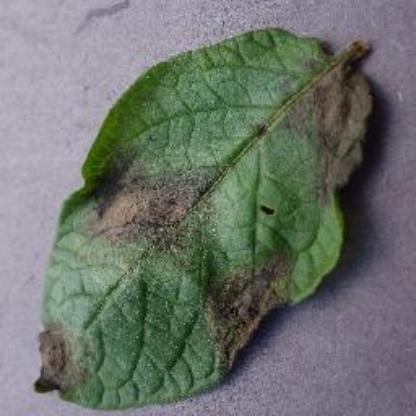Late-Blight: (26, 16, 378, 408)
